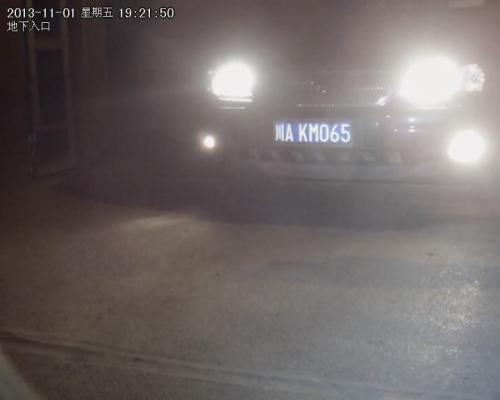Carplate: (270, 115, 359, 150)
